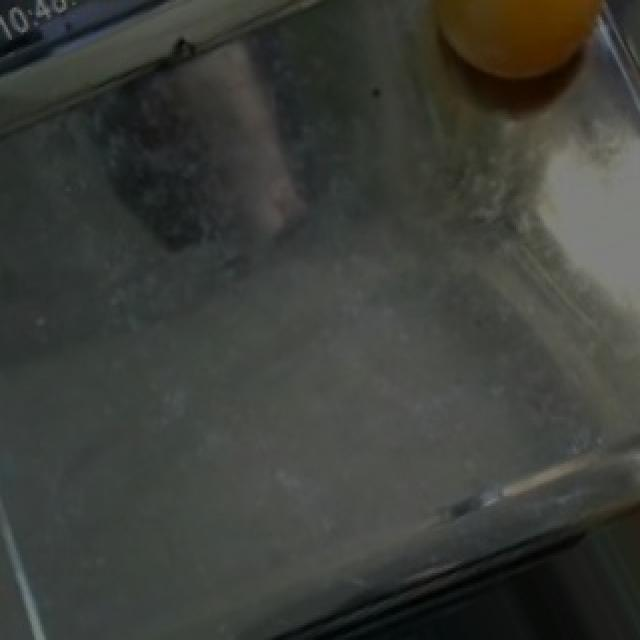Fruit: (396, 3, 638, 124)
